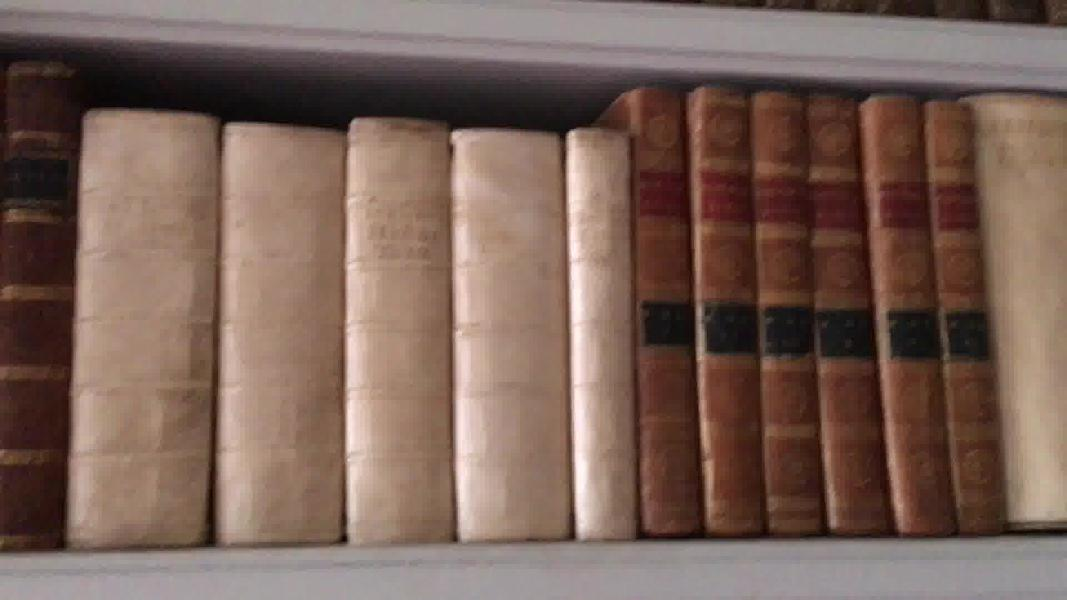Kk4-3_7: (55, 84, 638, 567)
Kk4-8_13: (605, 73, 1011, 536)
